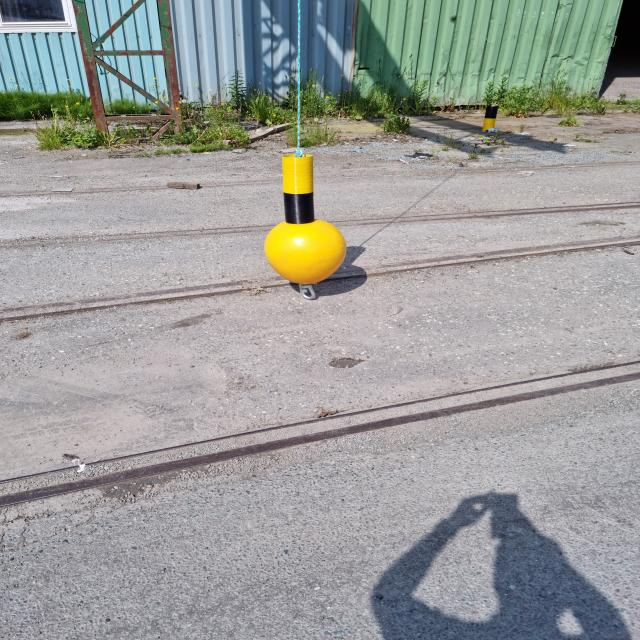west: (262, 153, 348, 286)
